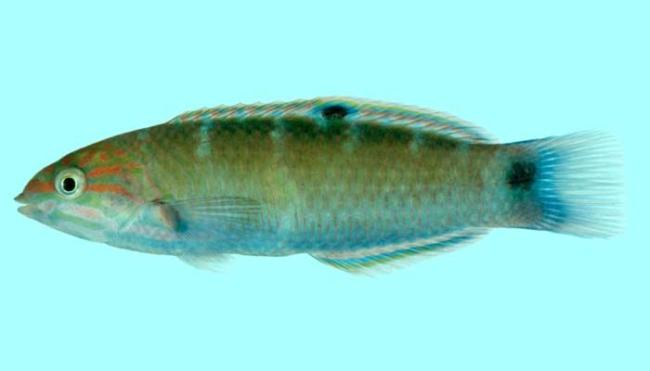fish: (14, 94, 626, 278)
